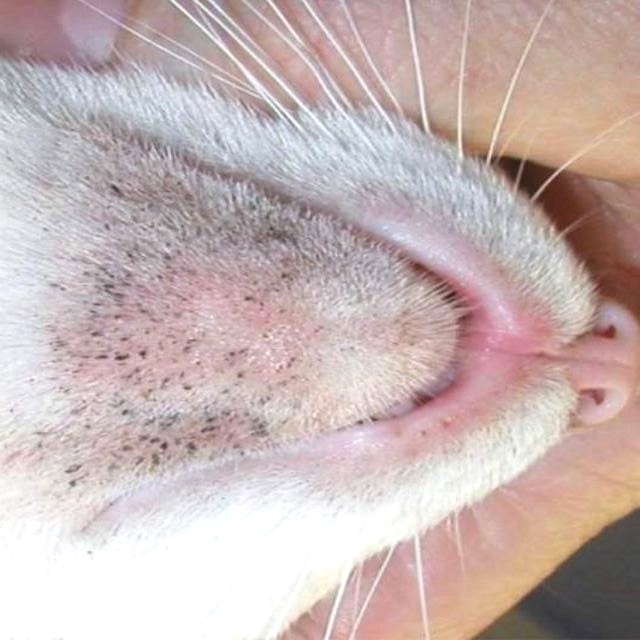acne: (49, 183, 338, 493)
